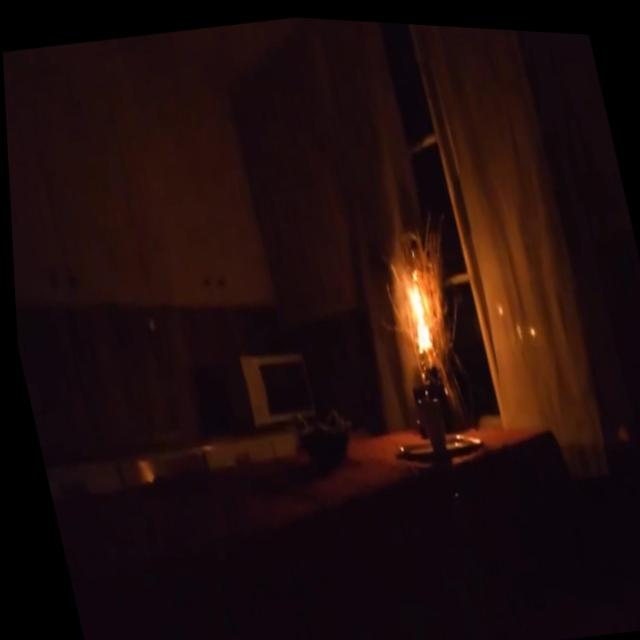fire: (384, 259, 441, 360)
